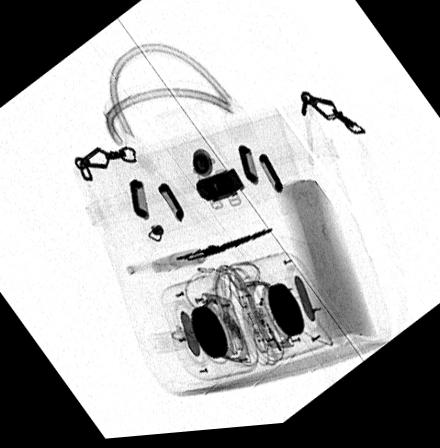Scissors: (124, 232, 275, 279)
